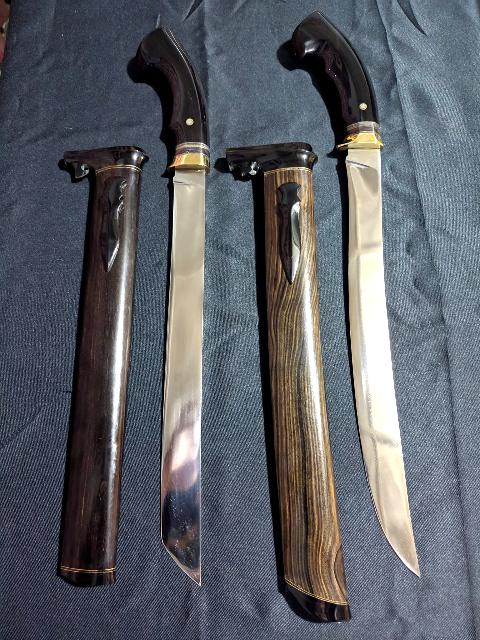long knife: (289, 9, 423, 578), (127, 25, 211, 585)
